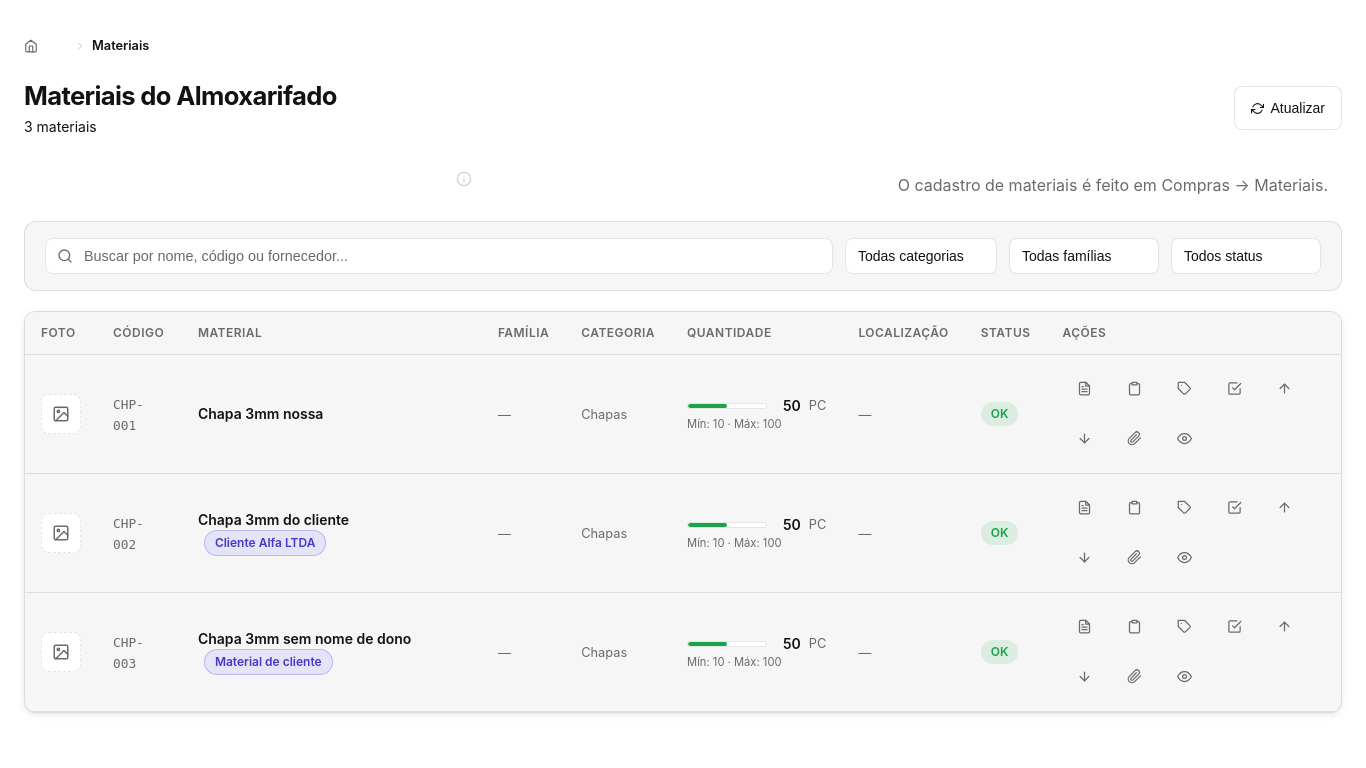
Test: MateriaisAlmoxarifado — anexos do material (Etapa 34) › o clipe abre o modal de anexos DO material da linha — e nao do primeiro
The image size is (1366, 768).
Click the button with test id "anexos-material-3": (1134, 677) [1112,655,1156,699]
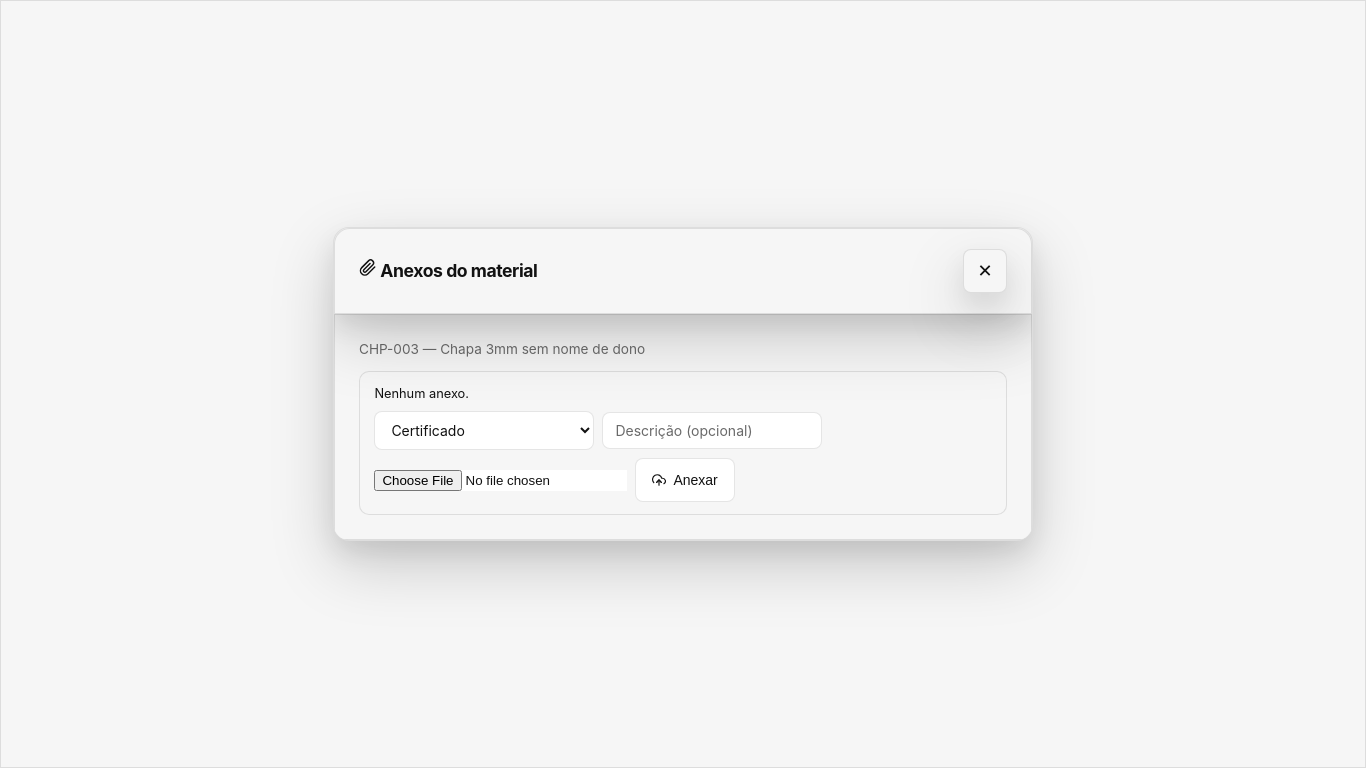
Check: the element with test id "anexos-modal" is shown
Check: the element with test id "anexos-documento" is shown, box [359,371,1007,515]
